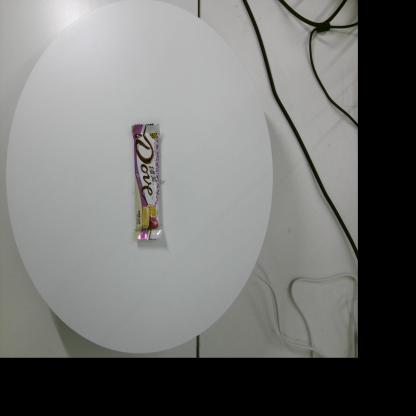Chocolate: (132, 123, 162, 241)
